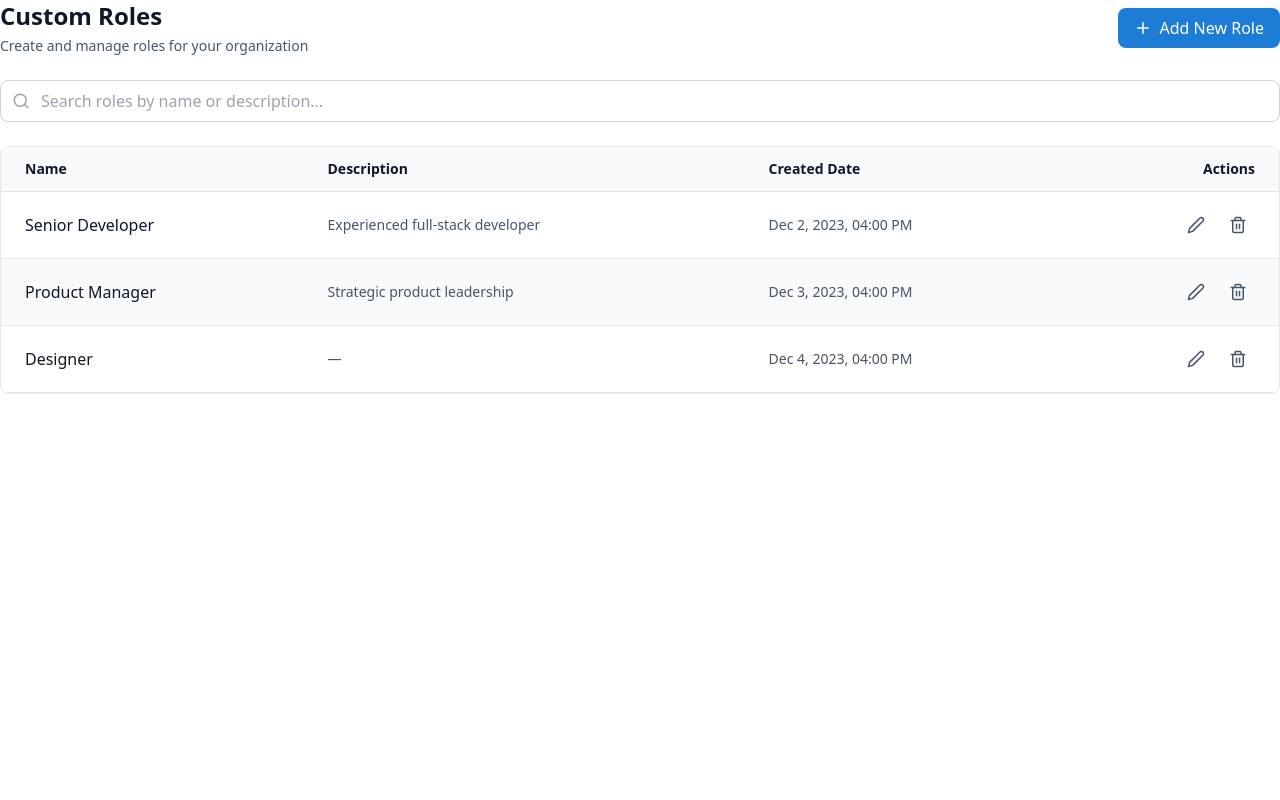
Test: RoleManagementPanel › Delete Confirmation › shows delete confirmation dialog when delete button is clicked
Step 1. Click the button named "Delete role Senior Developer" → x=1238, y=225, box [1221,208,1255,242]
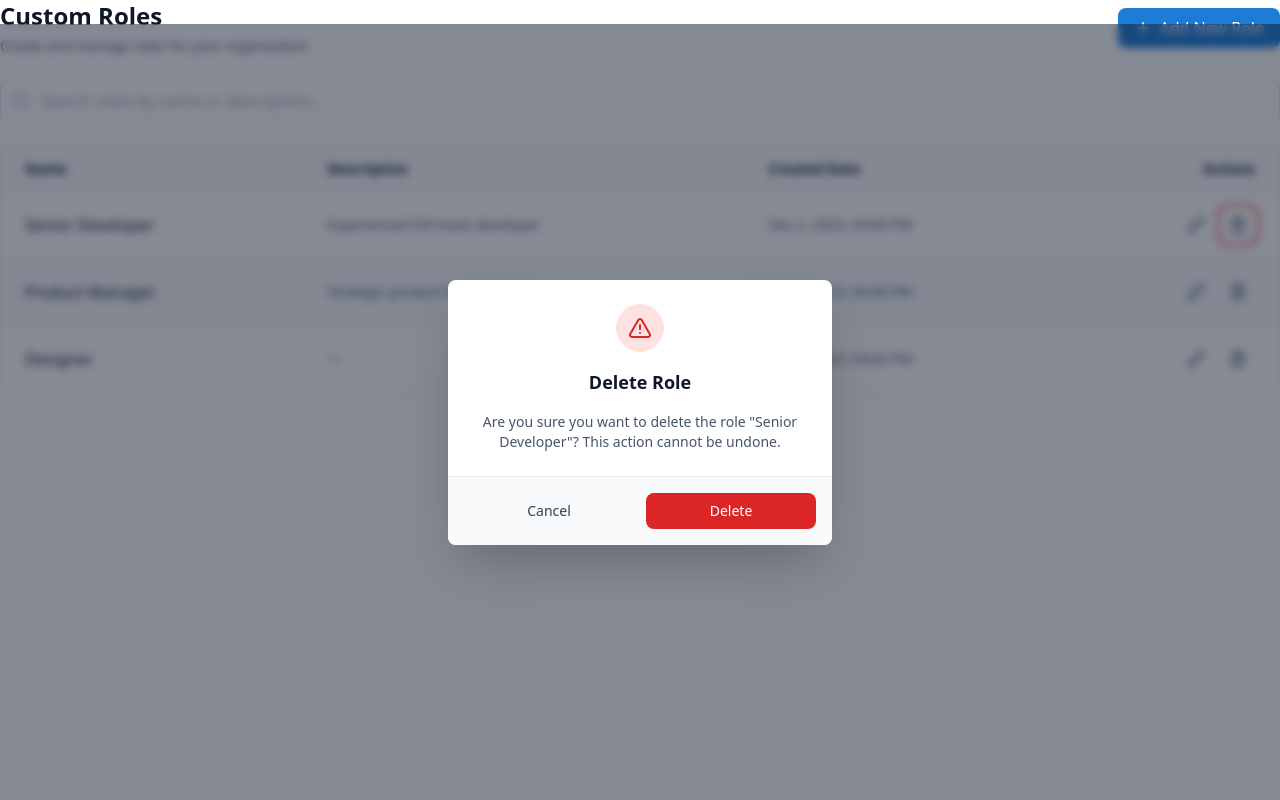
Result: the heading "Delete Role" is shown at [589,370,691,394]
Result: the text "Delete Role" shows "Senior Developer" at [483,412,797,450]
